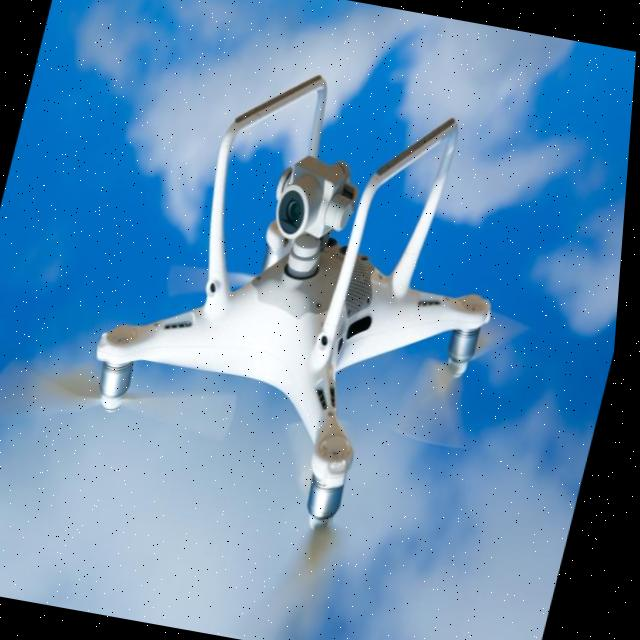drones: (18, 28, 588, 600)
